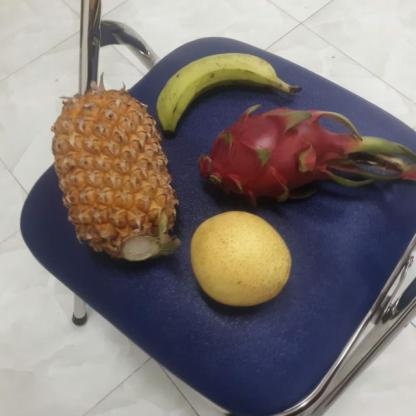banana: (154, 52, 288, 132)
pear: (187, 208, 293, 308)
pineapple: (46, 89, 178, 263)
pitaya: (189, 106, 347, 209)
